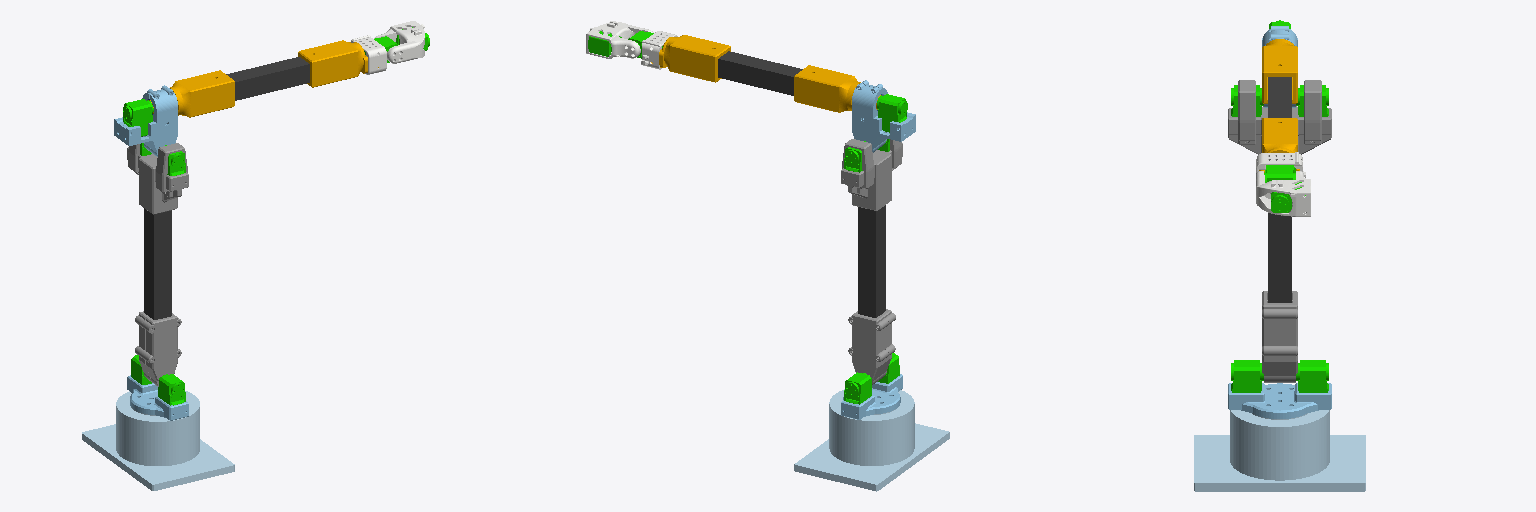
robot.urdf — sopo:
<?xml version='1.0' encoding='utf-8'?>
<robot name="sopo">
  <link name="base_link">
    <inertial>
      <origin xyz="0 0 0" />
      <mass value="1e-09" />
      <inertia ixx="1e-09" ixy="0" ixz="0" iyy="1e-09" iyz="0" izz="1e-09" />
    </inertial>
  </link>
  <link name="sopo_desktop_base">
    <inertial>
      <origin xyz="-1.2757e-08 -0.00262566 0.0390895" rpy="0 0 0" />
      <mass value="1.25391" />
      <inertia ixx="0.00204443" ixy="4.2e-11" ixz="3.31e-10" iyy="0.00254193" iyz="-1.44594e-05" izz="0.00302347" />
    </inertial>
    <visual>
      <origin xyz="-0 0 0.0637" rpy="0 -0 0" />
      <geometry>
        <mesh filename="assets/simple61814.stl" />
      </geometry>
      <material name="simple61814_material">
        <color rgba="0.917647 0.917647 0.917647 1" />
      </material>
    </visual>
    <collision>
      <origin xyz="-0 0 0.0637" rpy="0 -0 0" />
      <geometry>
        <mesh filename="assets/simple61814_collision.stl" />
      </geometry>
    </collision>
    <visual>
      <origin xyz="0 0 0.0637" rpy="0 -0 0" />
      <geometry>
        <mesh filename="assets/simple_sm8512bl.stl" />
      </geometry>
      <material name="simple_sm8512bl_material">
        <color rgba="0.917647 0.917647 0.917647 1" />
      </material>
    </visual>
    <collision>
      <origin xyz="0 0 0.0637" rpy="0 -0 0" />
      <geometry>
        <mesh filename="assets/simple_sm8512bl_collision.stl" />
      </geometry>
    </collision>
    <visual>
      <origin xyz="-0 0 0.0637" rpy="0 -0 0" />
      <geometry>
        <mesh filename="assets/sopo_desktop_base.stl" />
      </geometry>
      <material name="sopo_desktop_base_material">
        <color rgba="0.768627 0.886275 0.952941 1" />
      </material>
    </visual>
    <collision>
      <origin xyz="-0 0 0.0637" rpy="0 -0 0" />
      <geometry>
        <mesh filename="assets/sopo_desktop_base_collision.stl" />
      </geometry>
    </collision>
  </link>
  <link name="link_1">
    <inertial>
      <origin xyz="6.52594e-12 1.26882e-07 -0.00833285" rpy="0 0 0" />
      <mass value="1.192" />
      <inertia ixx="0.000400582" ixy="-5.4495e-12" ixz="-4.61263e-14" iyy="0.00113655" iyz="6.04175e-10" izz="0.00129419" />
    </inertial>
    <visual>
      <origin xyz="-0 -0 -0.0632" rpy="3.14159 -0 -0" />
      <geometry>
        <mesh filename="assets/joint_2_simple_sts3250.stl" />
      </geometry>
      <material name="joint_2_simple_sts3250_material">
        <color rgba="0.141176 0.917647 0.0235294 1" />
      </material>
    </visual>
    <collision>
      <origin xyz="-0 -0 -0.0632" rpy="3.14159 -0 -0" />
      <geometry>
        <mesh filename="assets/joint_2_simple_sts3250_collision.stl" />
      </geometry>
    </collision>
    <visual>
      <origin xyz="-0 -0 -0.0632" rpy="3.14159 -0 -0" />
      <geometry>
        <mesh filename="assets/link1.stl" />
      </geometry>
      <material name="link1_material">
        <color rgba="0.615686 0.811765 0.929412 1" />
      </material>
    </visual>
    <collision>
      <origin xyz="-0 -0 -0.0632" rpy="3.14159 -0 -0" />
      <geometry>
        <mesh filename="assets/link1_collision.stl" />
      </geometry>
    </collision>
    <visual>
      <origin xyz="-0 0 -0.0632" rpy="3.14159 -0 -0" />
      <geometry>
        <mesh filename="assets/joint_2_simple_sts3250__2.stl" />
      </geometry>
      <material name="joint_2_simple_sts3250_2_material">
        <color rgba="0.141176 0.917647 0.0235294 1" />
      </material>
    </visual>
    <collision>
      <origin xyz="-0 0 -0.0632" rpy="3.14159 -0 -0" />
      <geometry>
        <mesh filename="assets/joint_2_simple_sts3250__2_collision.stl" />
      </geometry>
    </collision>
  </link>
  <link name="link_2">
    <inertial>
      <origin xyz="-8.93706e-06 -0.221925 -0.018501" rpy="0 0 0" />
      <mass value="0.424" />
      <inertia ixx="0.0067438" ixy="-2.6255e-07" ixz="-1.04868e-08" iyy="0.000364976" iyz="5.74872e-08" izz="0.00647589" />
    </inertial>
    <visual>
      <origin xyz="0 -0.0219 -0.0185" rpy="1.5708 1.5708 0" />
      <geometry>
        <mesh filename="assets/link_2_pipe.stl" />
      </geometry>
      <material name="link_2_pipe_material">
        <color rgba="0.301961 0.301961 0.301961 1" />
      </material>
    </visual>
    <collision>
      <origin xyz="0 -0.0219 -0.0185" rpy="1.5708 1.5708 0" />
      <geometry>
        <mesh filename="assets/link_2_pipe.stl" />
      </geometry>
    </collision>
    <visual>
      <origin xyz="5.48697e-07 -0.3428 -0.0185" rpy="-0 1.5708 0" />
      <geometry>
        <mesh filename="assets/link_2_holder.stl" />
      </geometry>
      <material name="link_2_holder_material">
        <color rgba="0.647059 0.647059 0.647059 1" />
      </material>
    </visual>
    <collision>
      <origin xyz="5.48697e-07 -0.3428 -0.0185" rpy="-0 1.5708 0" />
      <geometry>
        <mesh filename="assets/link_2_holder_collision.stl" />
      </geometry>
    </collision>
    <visual>
      <origin xyz="0 -0.022 -0.0185" rpy="1.5708 1.5708 0" />
      <geometry>
        <mesh filename="assets/link_2_holder__2.stl" />
      </geometry>
      <material name="link_2_holder_2_material">
        <color rgba="0.647059 0.647059 0.647059 1" />
      </material>
    </visual>
    <collision>
      <origin xyz="0 -0.022 -0.0185" rpy="1.5708 1.5708 0" />
      <geometry>
        <mesh filename="assets/link_2_holder__2_collision.stl" />
      </geometry>
    </collision>
    <visual>
      <origin xyz="5.48697e-07 -0.3428 -0.0185" rpy="-0 1.5708 0" />
      <geometry>
        <mesh filename="assets/joint_3_simple_sts3250.stl" />
      </geometry>
      <material name="joint_3_simple_sts3250_material">
        <color rgba="0.141176 0.917647 0.0235294 1" />
      </material>
    </visual>
    <collision>
      <origin xyz="5.48697e-07 -0.3428 -0.0185" rpy="-0 1.5708 0" />
      <geometry>
        <mesh filename="assets/joint_3_simple_sts3250_collision.stl" />
      </geometry>
    </collision>
    <visual>
      <origin xyz="5.48697e-07 -0.3428 -0.0185" rpy="-0 1.5708 0" />
      <geometry>
        <mesh filename="assets/joint_3_simple_sts3250__2.stl" />
      </geometry>
      <material name="joint_3_simple_sts3250_2_material">
        <color rgba="0.141176 0.917647 0.0235294 1" />
      </material>
    </visual>
    <collision>
      <origin xyz="5.48697e-07 -0.3428 -0.0185" rpy="-0 1.5708 0" />
      <geometry>
        <mesh filename="assets/joint_3_simple_sts3250__2_collision.stl" />
      </geometry>
    </collision>
  </link>
  <link name="link_3">
    <inertial>
      <origin xyz="-0.0425406 0.0202045 -0.0185133" rpy="0 0 0" />
      <mass value="0.1305" />
      <inertia ixx="6.11542e-05" ixy="1.15406e-05" ixz="1.44851e-08" iyy="5.79705e-05" iyz="2.09268e-08" izz="9.52165e-05" />
    </inertial>
    <visual>
      <origin xyz="-0.0619 -0.068 -0.0185" rpy="-3.14159 1.5708 0" />
      <geometry>
        <mesh filename="assets/link_3.stl" />
      </geometry>
      <material name="link_3_material">
        <color rgba="0.615686 0.811765 0.929412 1" />
      </material>
    </visual>
    <collision>
      <origin xyz="-0.0619 -0.068 -0.0185" rpy="-3.14159 1.5708 0" />
      <geometry>
        <mesh filename="assets/link_3_collision.stl" />
      </geometry>
    </collision>
    <visual>
      <origin xyz="-0.0619 -0.068 -0.0185" rpy="-3.14159 1.5708 0" />
      <geometry>
        <mesh filename="assets/joint_4_simple_sts3250.stl" />
      </geometry>
      <material name="joint_4_simple_sts3250_material">
        <color rgba="0.141176 0.917647 0.0235294 1" />
      </material>
    </visual>
    <collision>
      <origin xyz="-0.0619 -0.068 -0.0185" rpy="-3.14159 1.5708 0" />
      <geometry>
        <mesh filename="assets/joint_4_simple_sts3250_collision.stl" />
      </geometry>
    </collision>
  </link>
  <link name="link_4">
    <inertial>
      <origin xyz="4.38776e-05 -0.000294806 -0.223898" rpy="0 0 0" />
      <mass value="0.307" />
      <inertia ixx="0.00433331" ixy="9.62693e-09" ixz="1.60982e-06" iyy="0.00434083" iyz="-1.02205e-05" izz="8.2126e-05" />
    </inertial>
    <visual>
      <origin xyz="-0 -4.64429e-07 -0.081" rpy="-1.5708 -0 -0" />
      <geometry>
        <mesh filename="assets/link_4_pipe.stl" />
      </geometry>
      <material name="link_4_pipe_material">
        <color rgba="0.301961 0.301961 0.301961 1" />
      </material>
    </visual>
    <collision>
      <origin xyz="-0 -4.64429e-07 -0.081" rpy="-1.5708 -0 -0" />
      <geometry>
        <mesh filename="assets/link_4_pipe.stl" />
      </geometry>
    </collision>
    <visual>
      <origin xyz="-0 0 -0.081" rpy="-1.5708 -0 -0" />
      <geometry>
        <mesh filename="assets/link_4_hold_1.stl" />
      </geometry>
      <material name="link_4_hold_1_material">
        <color rgba="0.980392 0.713725 0.00392157 1" />
      </material>
    </visual>
    <collision>
      <origin xyz="-0 0 -0.081" rpy="-1.5708 -0 -0" />
      <geometry>
        <mesh filename="assets/link_4_hold_1_collision.stl" />
      </geometry>
    </collision>
    <visual>
      <origin xyz="-0 0 -0.081" rpy="-1.5708 -0 -0" />
      <geometry>
        <mesh filename="assets/simple_6704.stl" />
      </geometry>
      <material name="simple_6704_material">
        <color rgba="0.231373 0.380392 0.705882 1" />
      </material>
    </visual>
    <collision>
      <origin xyz="-0 0 -0.081" rpy="-1.5708 -0 -0" />
      <geometry>
        <mesh filename="assets/simple_6704.stl" />
      </geometry>
    </collision>
    <visual>
      <origin xyz="-0 0 -0.081" rpy="-1.5708 -0 -0" />
      <geometry>
        <mesh filename="assets/simple_6704__2.stl" />
      </geometry>
      <material name="simple_6704_2_material">
        <color rgba="0.231373 0.380392 0.705882 1" />
      </material>
    </visual>
    <collision>
      <origin xyz="-0 0 -0.081" rpy="-1.5708 -0 -0" />
      <geometry>
        <mesh filename="assets/simple_6704__2.stl" />
      </geometry>
    </collision>
    <visual>
      <origin xyz="-0 -9.3933e-07 -0.433326" rpy="1.5708 0 3.14159" />
      <geometry>
        <mesh filename="assets/link_4_holder2.stl" />
      </geometry>
      <material name="link_4_holder2_material">
        <color rgba="0.980392 0.713725 0.00392157 1" />
      </material>
    </visual>
    <collision>
      <origin xyz="-0 -9.3933e-07 -0.433326" rpy="1.5708 0 3.14159" />
      <geometry>
        <mesh filename="assets/link_4_holder2_collision.stl" />
      </geometry>
    </collision>
    <visual>
      <origin xyz="-0 -9.3933e-07 -0.433326" rpy="1.5708 0 3.14159" />
      <geometry>
        <mesh filename="assets/joint_5_simple_sts3215_12v.stl" />
      </geometry>
      <material name="joint_5_simple_sts3215_12v_material">
        <color rgba="0.141176 0.917647 0.0235294 1" />
      </material>
    </visual>
    <collision>
      <origin xyz="-0 -9.3933e-07 -0.433326" rpy="1.5708 0 3.14159" />
      <geometry>
        <mesh filename="assets/joint_5_simple_sts3215_12v_collision.stl" />
      </geometry>
    </collision>
    <visual>
      <origin xyz="-0 -9.3933e-07 -0.433326" rpy="1.5708 0 3.14159" />
      <geometry>
        <mesh filename="assets/link_4_holder_3.stl" />
      </geometry>
      <material name="link_4_holder_3_material">
        <color rgba="0.964706 0.964706 0.952941 1" />
      </material>
    </visual>
    <collision>
      <origin xyz="-0 -9.3933e-07 -0.433326" rpy="1.5708 0 3.14159" />
      <geometry>
        <mesh filename="assets/link_4_holder_3_collision.stl" />
      </geometry>
    </collision>
  </link>
  <link name="link_5">
    <inertial>
      <origin xyz="-0.0377441 -0.000117368 -0.0276506" rpy="0 0 0" />
      <mass value="0.087" />
      <inertia ixx="2.9179e-05" ixy="2.21139e-08" ixz="-4.59611e-06" iyy="4.33553e-05" iyz="6.12736e-08" izz="2.49327e-05" />
    </inertial>
    <visual>
      <origin xyz="-0.0611 1.2e-11 -0.0185" rpy="1.5708 1.5708 0" />
      <geometry>
        <mesh filename="assets/link_5.stl" />
      </geometry>
      <material name="link_5_material">
        <color rgba="0.964706 0.964706 0.952941 1" />
      </material>
    </visual>
    <collision>
      <origin xyz="-0.0611 1.2e-11 -0.0185" rpy="1.5708 1.5708 0" />
      <geometry>
        <mesh filename="assets/link_5_collision.stl" />
      </geometry>
    </collision>
    <visual>
      <origin xyz="-0.0611 1.2e-11 -0.0185" rpy="1.5708 1.5708 0" />
      <geometry>
        <mesh filename="assets/joint_6_simple_sts3215_12v.stl" />
      </geometry>
      <material name="joint_6_simple_sts3215_12v_material">
        <color rgba="0.141176 0.917647 0.0235294 1" />
      </material>
    </visual>
    <collision>
      <origin xyz="-0.0611 1.2e-11 -0.0185" rpy="1.5708 1.5708 0" />
      <geometry>
        <mesh filename="assets/joint_6_simple_sts3215_12v_collision.stl" />
      </geometry>
    </collision>
  </link>
  <joint name="joint_6" type="continuous">
    <origin xyz="-0.0611 1.2e-11 -0.0185" rpy="-0 1.5708 0" />
    <parent link="link_5" />
    <child link="flange" />
    <axis xyz="0 0 -1" />
    <limit effort="1.5" velocity="5.236" />
  </joint>
  <joint name="joint_5" type="revolute">
    <origin xyz="0.0185 -9.39318e-07 -0.372226" rpy="3.14159 -1.5708 0" />
    <parent link="link_4" />
    <child link="link_5" />
    <axis xyz="0 0 -1" />
    <limit effort="1.5" velocity="5.236" lower="-1.74533" upper="1.74533" />
  </joint>
  <joint name="joint_4" type="revolute">
    <origin xyz="-0.0619 0.013 -0.0185" rpy="-1.5708 1.5708 0" />
    <parent link="link_3" />
    <child link="link_4" />
    <axis xyz="0 0 -1" />
    <limit effort="1.6" velocity="7.85" lower="-3.14159" upper="3.14159" />
  </joint>
  <joint name="joint_3" type="revolute">
    <origin xyz="5.48697e-07 -0.3428 -0" rpy="-0 -0 1.5708" />
    <parent link="link_2" />
    <child link="link_3" />
    <axis xyz="0 0 1" />
    <limit effort="3.1" velocity="7.85" lower="-1.5708" upper="1.5708" />
  </joint>
  <joint name="joint_2" type="revolute">
    <origin xyz="-0.0185 0 -0.0412" rpy="1.5708 -0 -1.5708" />
    <parent link="link_1" />
    <child link="link_2" />
    <axis xyz="0 0 1" />
    <limit effort="3.1" velocity="7.85" lower="-1.65806" upper="1.65806" />
  </joint>
  <joint name="joint_1" type="revolute">
    <origin xyz="-0 -0 0.0777" rpy="-3.14159 0 -0" />
    <parent link="sopo_desktop_base" />
    <child link="link_1" />
    <axis xyz="0 0 -1" />
    <limit effort="2.7" velocity="6.28" lower="-3.14159265359" upper="3.14159265359" />
  </joint>
  <mujoco>
    <compiler discardvisual="false" />
  </mujoco>
  <joint name="base_fixed" type="fixed">
    <origin xyz="0 0 0" rpy="0 0 -1.57079633" />
    <parent link="base_link" />
    <child link="sopo_desktop_base" />
  </joint>
  <link name="flange">
    <inertial>
      <origin xyz="0 0 0" />
      <mass value="1e-09" />
      <inertia ixx="1e-09" ixy="0" ixz="0" iyy="1e-09" iyz="0" izz="1e-09" />
    </inertial>
  </link>
</robot>

--- Render facts (derived) ---
The picture shows the robot from 3 angles, left to right: view 1: azimuth 30°, elevation 25°; view 2: azimuth 150°, elevation 25°; view 3: azimuth 270°, elevation 25°; orthographic projection.
Model sopo with 8 links and 7 joints (5 revolute, 1 continuous, 1 fixed), rooted at base_link, posed all joints at 0.
Visible links, largest first — view 1: link_2, sopo_desktop_base, link_4, link_3, link_1, link_5; view 2: link_2, sopo_desktop_base, link_4, link_3, link_1, link_5; view 3: sopo_desktop_base, link_2, link_4, link_1, link_5, link_3.
Boxes of the visible links, left/top/right/bottom form: link_2: left=127, top=143, right=188, bottom=386; sopo_desktop_base: left=82, top=391, right=234, bottom=490; link_4: left=148, top=35, right=397, bottom=117; link_3: left=114, top=85, right=177, bottom=156; link_1: left=127, top=355, right=188, bottom=420; link_5: left=374, top=21, right=429, bottom=63; link_2: left=841, top=139, right=902, bottom=384; sopo_desktop_base: left=794, top=389, right=949, bottom=491; link_4: left=628, top=31, right=881, bottom=112; link_3: left=852, top=80, right=915, bottom=152; link_1: left=841, top=353, right=902, bottom=419; link_5: left=586, top=21, right=653, bottom=58; sopo_desktop_base: left=1194, top=410, right=1365, bottom=491; link_2: left=1228, top=80, right=1331, bottom=382; link_4: left=1256, top=39, right=1305, bottom=182; link_1: left=1228, top=360, right=1331, bottom=418; link_5: left=1256, top=171, right=1310, bottom=216; link_3: left=1262, top=20, right=1297, bottom=107.
Size in the robot's own frame: 0.4897 by 0.1947 by 0.5461 metres.
Meshes: 22 distinct files referenced, 21 mesh visuals loaded (21 binary STL); not drawn: 1 (reference not matched to a file when rendering).
